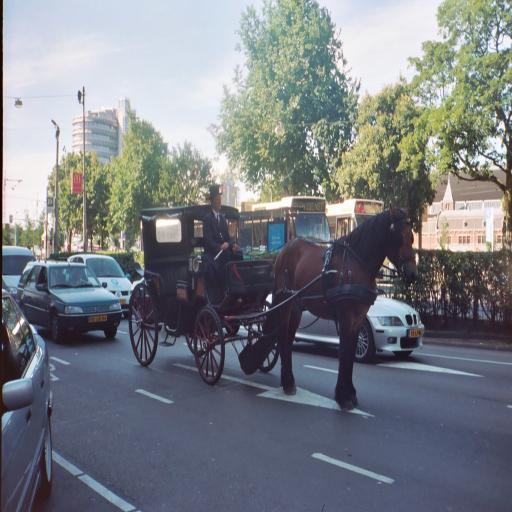horse: (265, 200, 420, 412)
